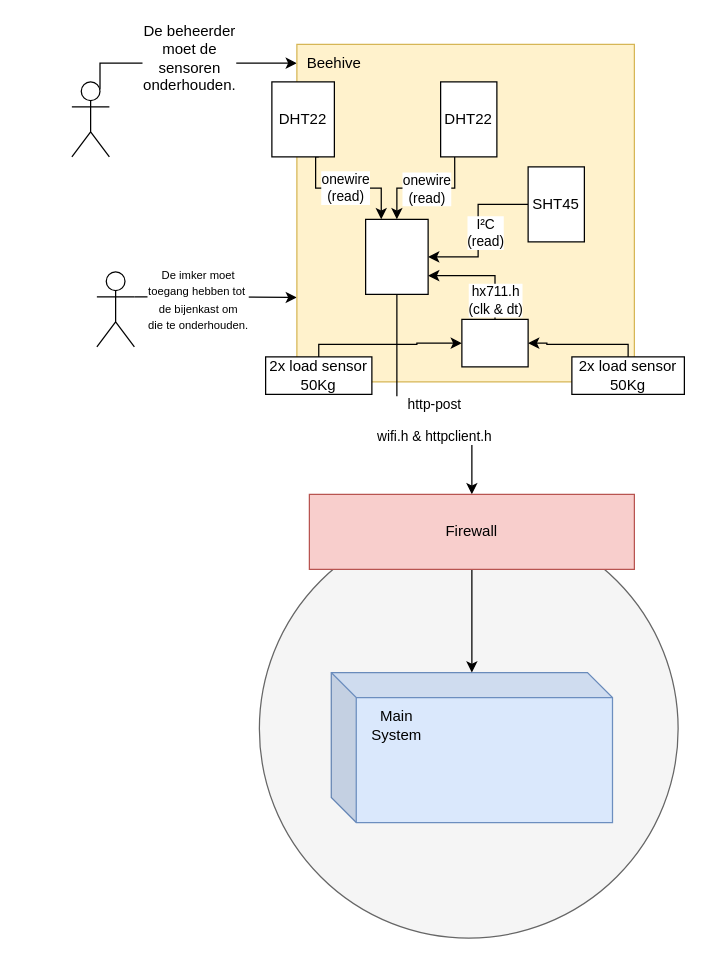
The diagram is 706 pixels wide and 960 high, and some of its shapes have lost their labels. Here are the shapes that lost their labels. From the top down, the box of each, then its label:
(71, 81, 109, 157): Beheerder
(364, 218, 428, 294): ESP32
(96, 271, 134, 347): Imker
(461, 318, 528, 367): hx711 module
